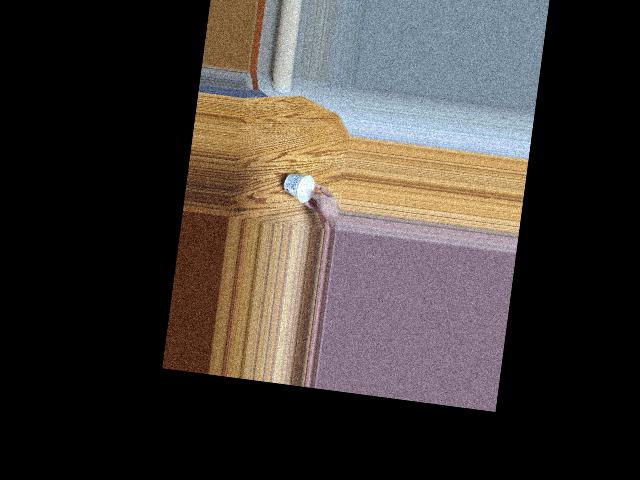cotage: (281, 168, 314, 202)
